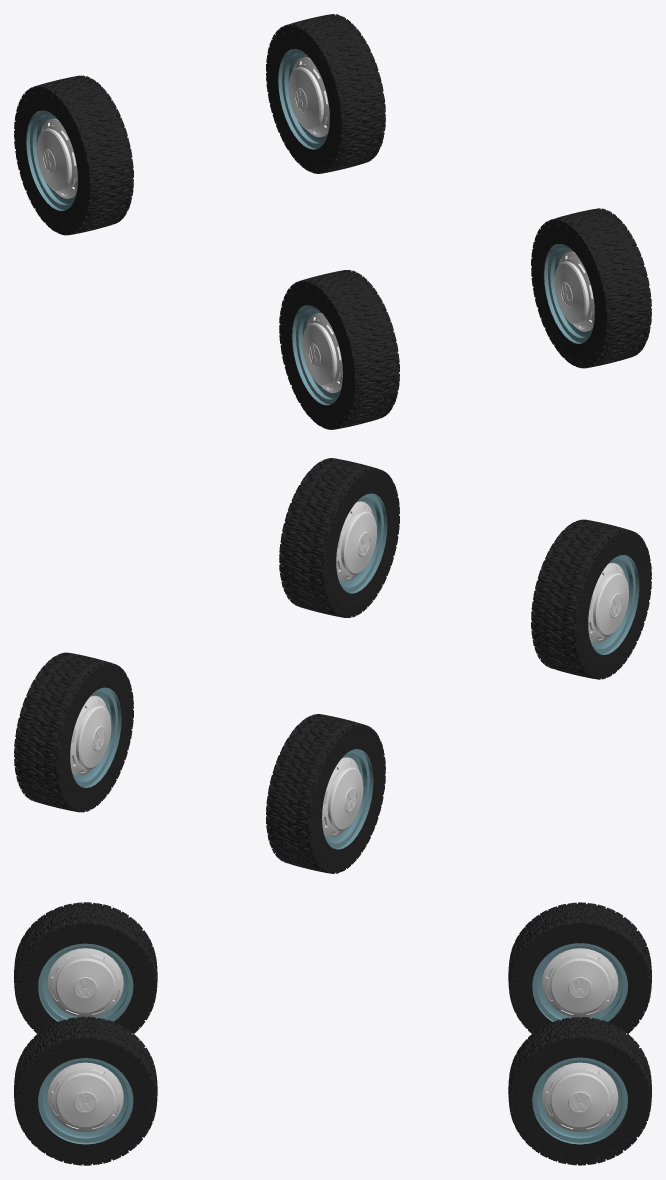
File: PART_001_AllTerrainWheelSet.glb
The picture shows the model from 3 angles, top to bottom: view 1: azimuth 30°, elevation 25°; view 2: azimuth 150°, elevation 25°; view 3: azimuth 270°, elevation 25°; orthographic projection. The views are drawn at different scales.
Parts seen in each view (by area): view 1: FL_Tire, FR_Tire, RL_Tire, RR_Tire, RL_Hub, RR_Hub, FL_Hub, FR_Hub, RL_WheelFace, RR_WheelFace, FR_WheelFace, FL_WheelFace; view 2: FR_Tire, FL_Tire, RR_Tire, RL_Tire, RL_Hub, RR_Hub, FL_Hub, FR_Hub, RR_WheelFace, RL_WheelFace, FL_WheelFace, FR_WheelFace; view 3: FL_Tire, RL_Tire, FR_Tire, RR_Tire, RL_Hub, RR_Hub, FL_Hub, FR_Hub, RL_WheelFace, FL_WheelFace, RR_WheelFace, FR_WheelFace.
Part boxes in pixels (x1,y1,x2,y2): FL_Tire: [531, 208, 651, 368]; FR_Tire: [279, 270, 399, 429]; RL_Tire: [266, 14, 385, 173]; RR_Tire: [14, 75, 133, 235]; RL_Hub: [288, 57, 329, 137]; RR_Hub: [36, 118, 77, 198]; FL_Hub: [554, 251, 594, 331]; FR_Hub: [302, 313, 342, 393]; RL_WheelFace: [278, 49, 329, 149]; RR_WheelFace: [26, 110, 77, 210]; FR_WheelFace: [292, 305, 342, 405]; FL_WheelFace: [544, 244, 594, 343]; FR_Tire: [531, 519, 651, 679]; FL_Tire: [279, 458, 399, 617]; RR_Tire: [266, 714, 385, 873]; RL_Tire: [14, 652, 133, 812]; RL_Hub: [70, 695, 111, 775]; RR_Hub: [322, 757, 363, 837]; FL_Hub: [336, 501, 376, 581]; FR_Hub: [588, 563, 628, 642]; RR_WheelFace: [322, 749, 373, 849]; RL_WheelFace: [70, 687, 121, 787]; FL_WheelFace: [338, 493, 387, 593]; FR_WheelFace: [590, 555, 639, 654]; FL_Tire: [14, 1016, 157, 1165]; RL_Tire: [508, 1017, 651, 1165]; FR_Tire: [14, 902, 157, 1033]; RR_Tire: [508, 902, 651, 1033]; RL_Hub: [542, 1062, 618, 1131]; RR_Hub: [542, 948, 618, 1017]; FL_Hub: [47, 1062, 123, 1131]; FR_Hub: [47, 948, 123, 1017]; RL_WheelFace: [532, 1057, 627, 1144]; FL_WheelFace: [38, 1058, 133, 1144]; RR_WheelFace: [532, 943, 627, 1021]; FR_WheelFace: [38, 943, 133, 1021].
Bounding box in the file's own units: 1.56 × 0.6914 × 3.07.
